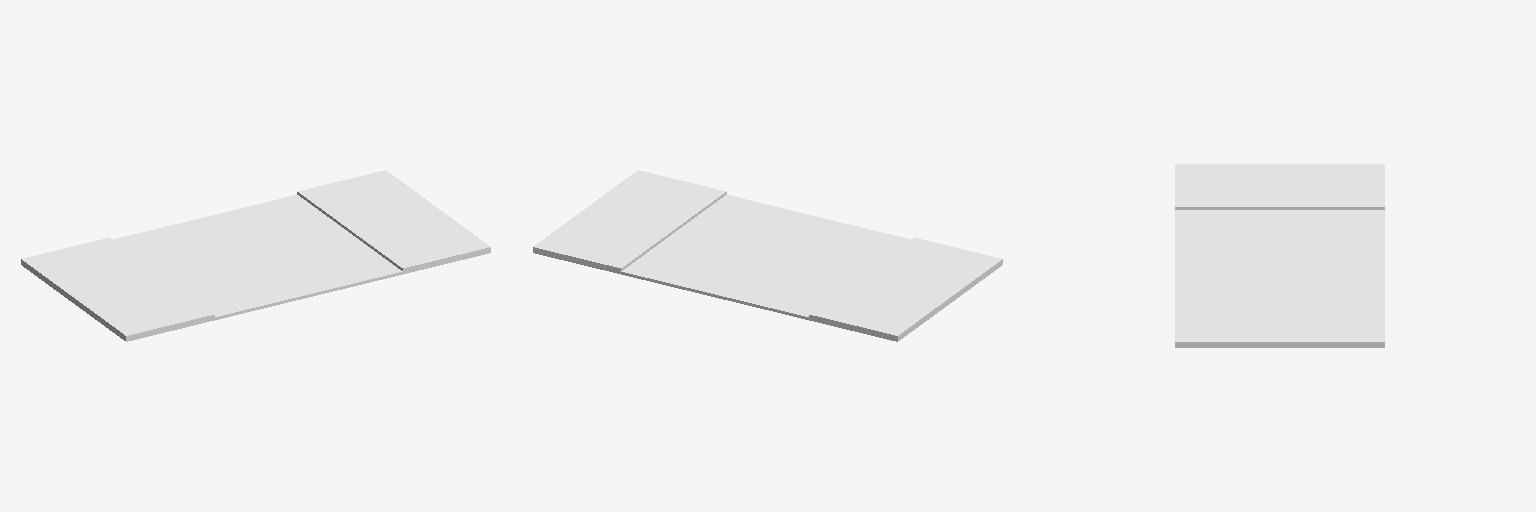
File: Floor3-2.obj
3 renders of one model, left to right at view 1: azimuth 30°, elevation 25°; view 2: azimuth 150°, elevation 25°; view 3: azimuth 270°, elevation 25°, orthographic.
Parts seen in each view (by area): view 1: Floor3-2; view 2: Floor3-2; view 3: Floor3-2.
Boxes of the visible parts, box(x1,y1,x2,y2) form: Floor3-2: box(21, 170, 490, 341); Floor3-2: box(533, 170, 1002, 341); Floor3-2: box(1175, 164, 1384, 347).
Bounding box in the file's own units: 12.8 × 0.2 × 6.4.